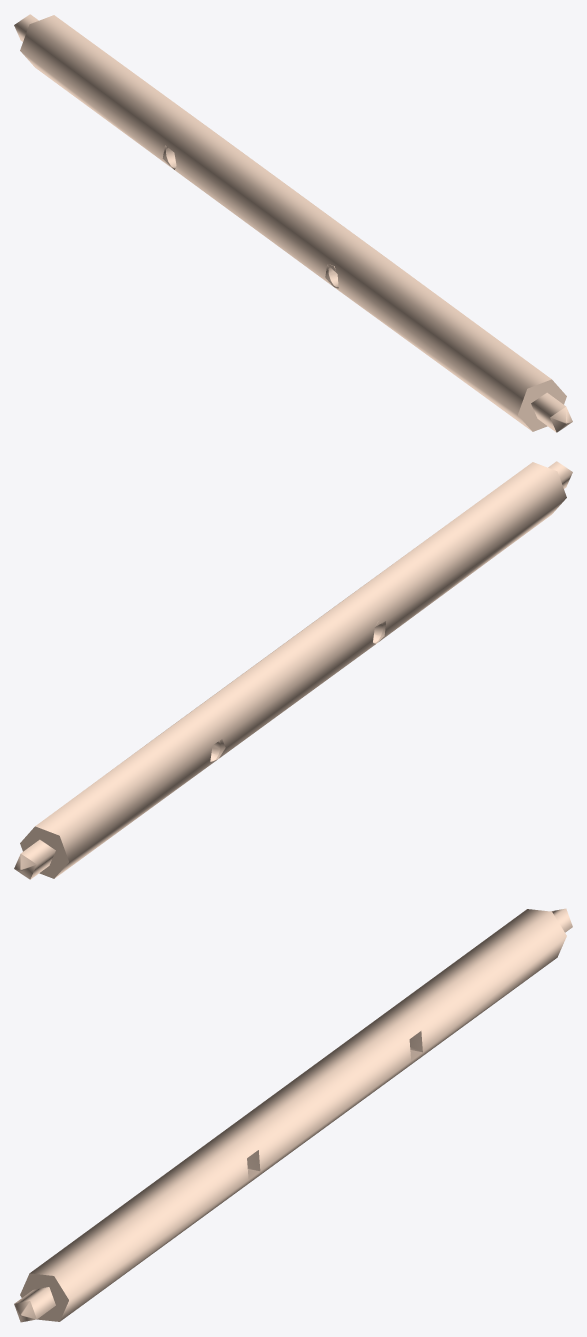
Rendered from Axe Gdetente_Grande detente.obj.
3 renders of one model, top to bottom at view 1: azimuth 30°, elevation 25°; view 2: azimuth 150°, elevation 25°; view 3: azimuth 330°, elevation 25°, orthographic.
Visible parts, largest first — view 1: Face_1, Face_7, Face_8; view 2: Face_1, Face_6, Face_5; view 3: Face_1, Face_7, Face_8.
Boxes of the visible parts, x1,y1,x2,y2 form: Face_1: (20, 15, 551, 430); Face_7: (518, 379, 566, 431); Face_8: (531, 392, 565, 432); Face_1: (35, 462, 566, 877); Face_6: (20, 826, 68, 878); Face_5: (21, 839, 55, 879); Face_1: (30, 909, 566, 1321); Face_7: (20, 1273, 68, 1321); Face_8: (14, 1287, 55, 1318).
Size of the model in its own units: 0.00595 by 0.00554 by 0.1141.
